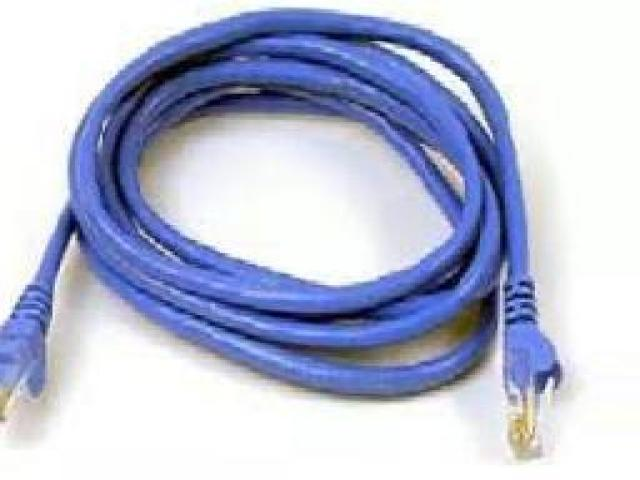wire: (0, 3, 562, 459)
